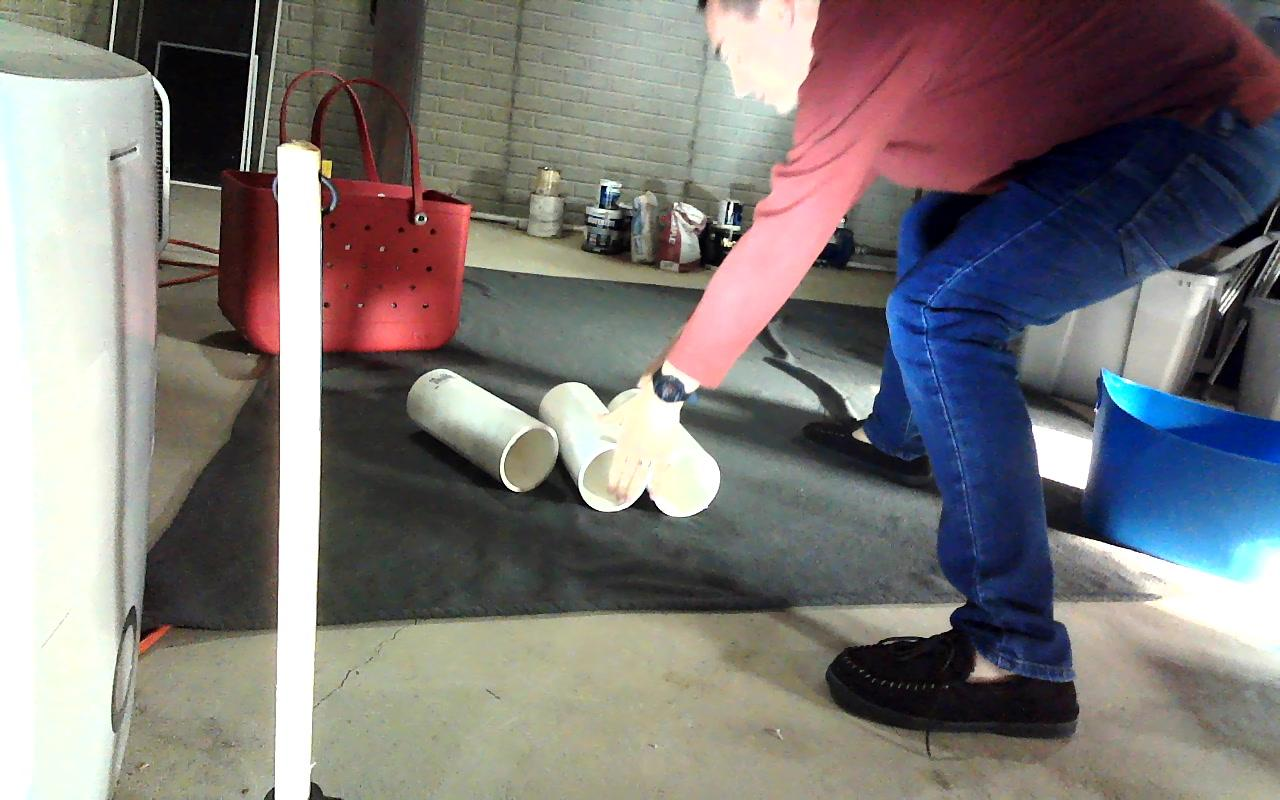coral: (406, 368, 556, 491), (611, 387, 722, 517), (536, 384, 647, 512)
